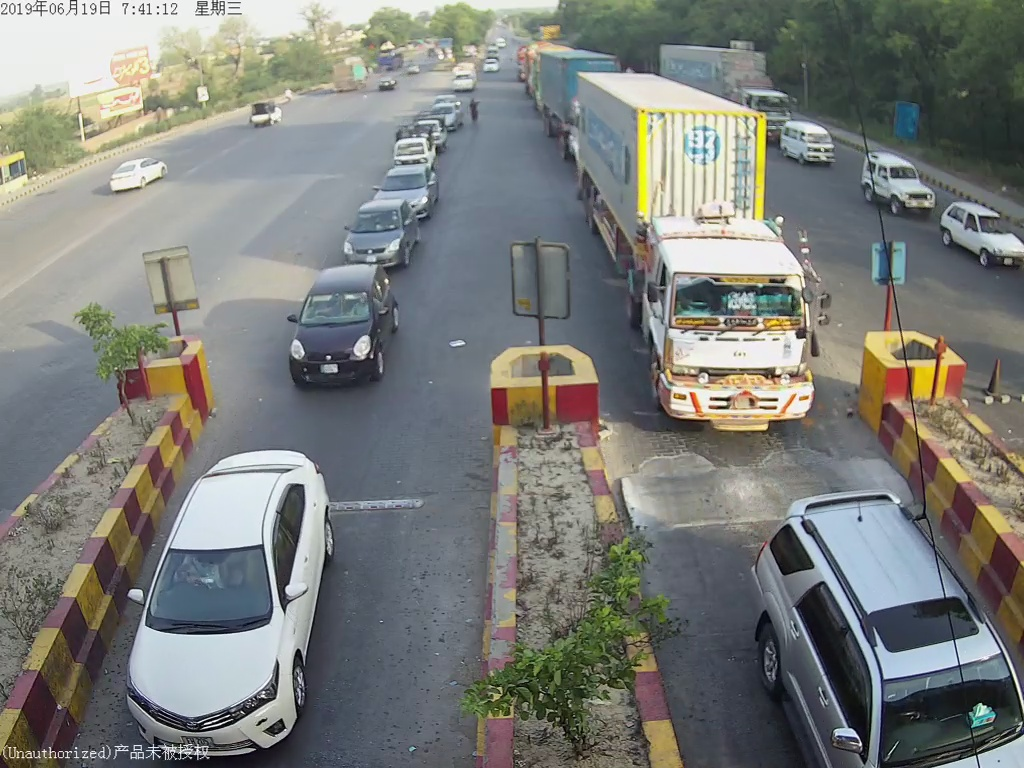Cat-1: (128, 461, 346, 747), (277, 266, 411, 388), (339, 203, 414, 264), (377, 166, 438, 205)
Cat-5: (604, 86, 828, 417)
